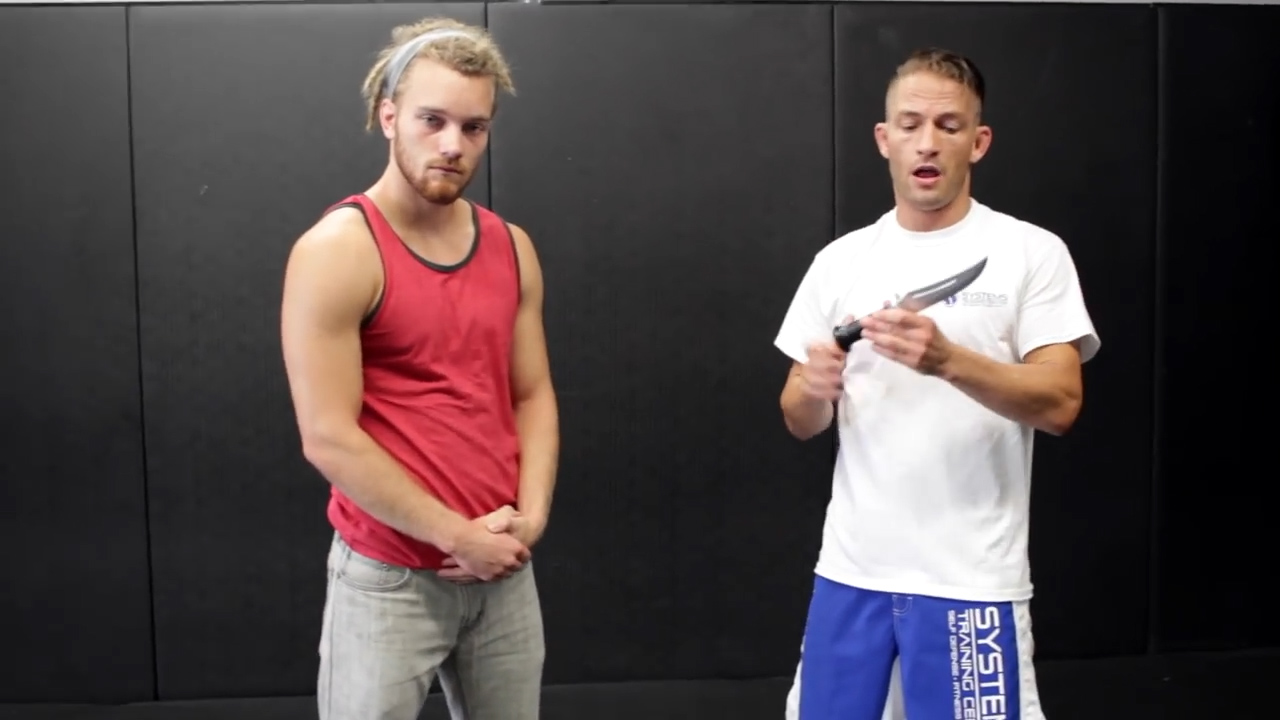knife: (824, 250, 1004, 361)
